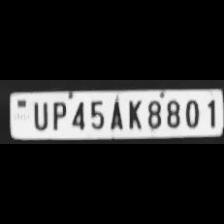0: (182, 96, 200, 128)
1: (202, 96, 220, 128)
4: (68, 98, 86, 130)
5: (86, 98, 104, 130)
8: (144, 97, 162, 129), (163, 96, 181, 128)
A: (106, 98, 124, 130)
K: (124, 96, 142, 130)
P: (48, 98, 68, 130)
U: (28, 98, 50, 130)
